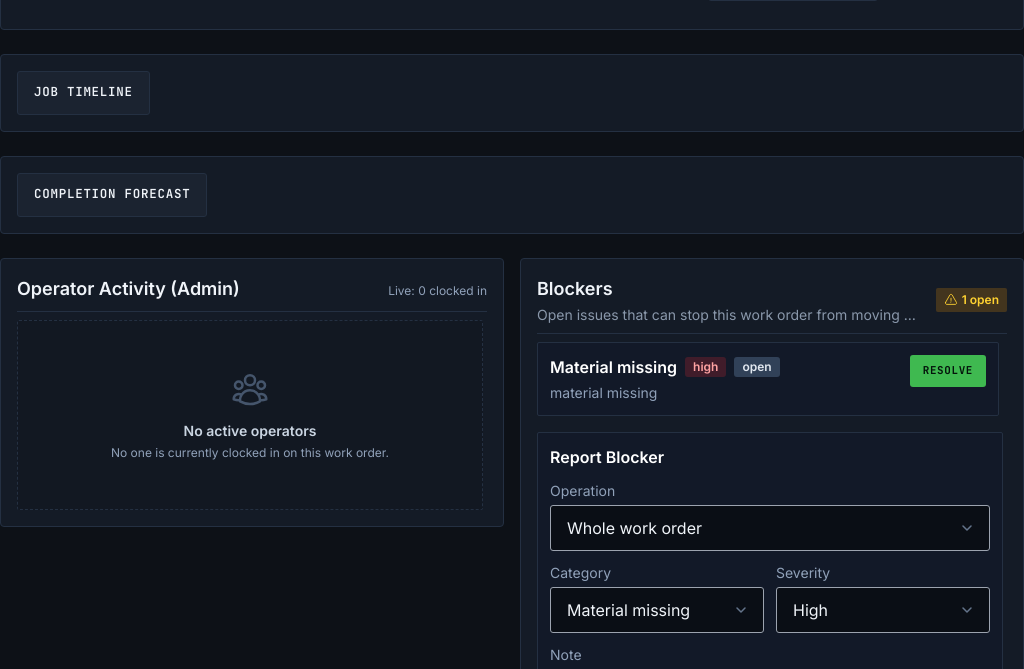
WorkOrderDetail resolve-blocker InputDialog › cancel closes the dialog and resolves nothing
(page scrolled)
Step 1. Click the button "Resolve" → [948, 370], box [910,354,986,386]
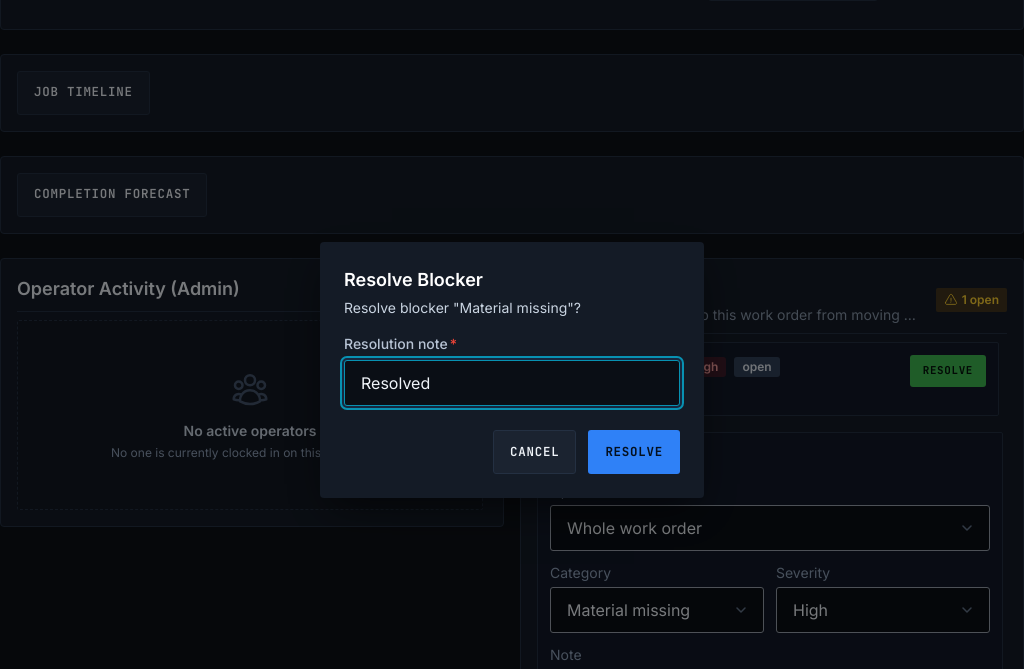
Step 2. Click the button "Cancel" → [535, 452], box [493,430,576,474]
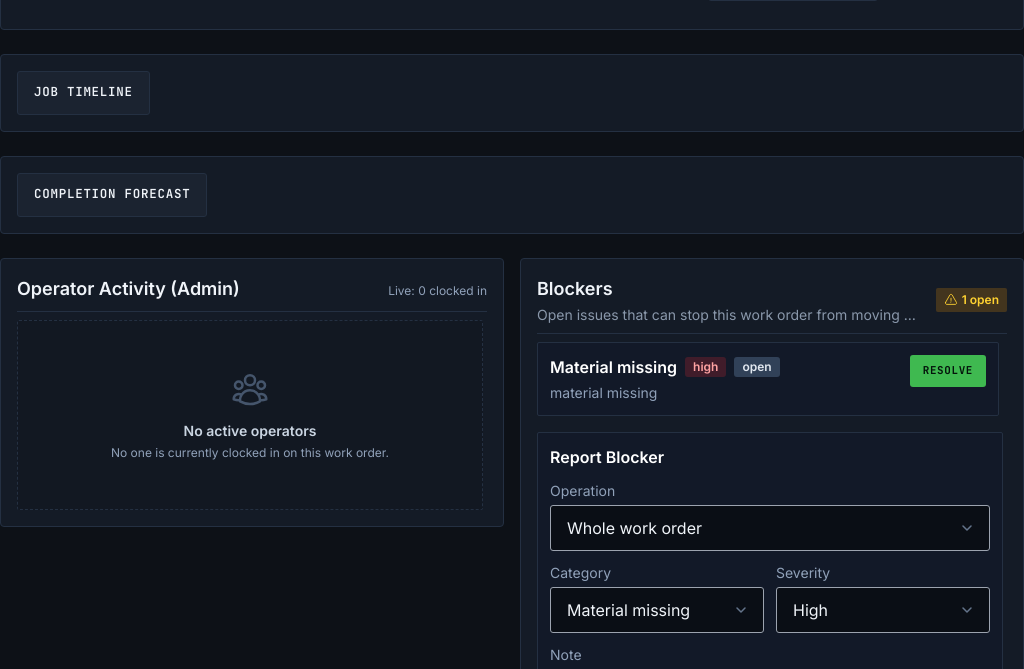
expect the dialog is gone: met
